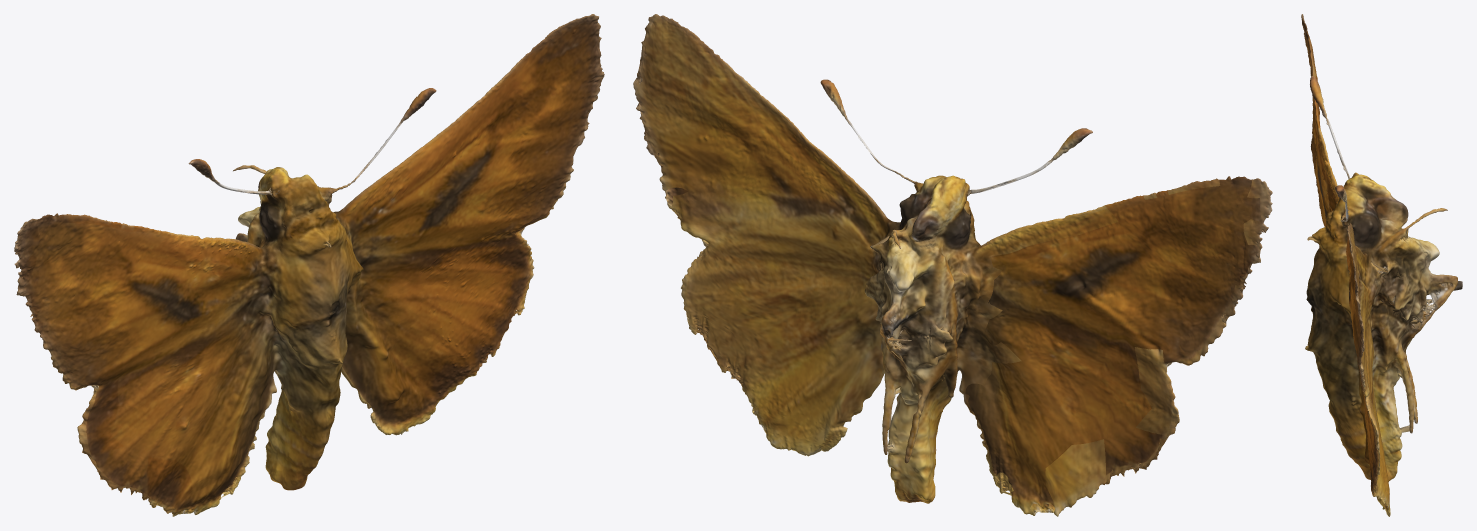
Rendered from woodland_skipper.glb.
3 views of the same model, side by side, from view 1: azimuth 30°, elevation 25°; view 2: azimuth 150°, elevation 25°; view 3: azimuth 270°, elevation 25° (orthographic). The views are drawn at different scales.
Parts seen in each view (by area): view 1: Object_3, Object_2, Object_4, Object_5, Object_6; view 2: Object_4, Object_2, Object_5, Object_3, Object_6; view 3: Object_2, Object_5, Object_4, Object_3, Object_6.
Boxes of the visible parts, left/top/right/bottom form: Object_3: left=16, top=28, right=598, bottom=500; Object_2: left=26, top=14, right=600, bottom=507; Object_4: left=14, top=94, right=562, bottom=516; Object_5: left=14, top=21, right=604, bottom=515; Object_6: left=16, top=17, right=603, bottom=514; Object_4: left=647, top=25, right=1272, bottom=516; Object_2: left=636, top=14, right=1262, bottom=513; Object_5: left=633, top=23, right=1268, bottom=516; Object_3: left=644, top=31, right=1269, bottom=501; Object_6: left=634, top=17, right=1269, bottom=515; Object_2: left=1301, top=19, right=1456, bottom=477; Object_5: left=1301, top=15, right=1462, bottom=514; Object_4: left=1301, top=14, right=1442, bottom=516; Object_3: left=1301, top=15, right=1461, bottom=510; Object_6: left=1302, top=25, right=1462, bottom=507.
Size of the model in its own units: 1.45 by 0.9306 by 0.368.
Materials: 1 (1 with a texture image).
